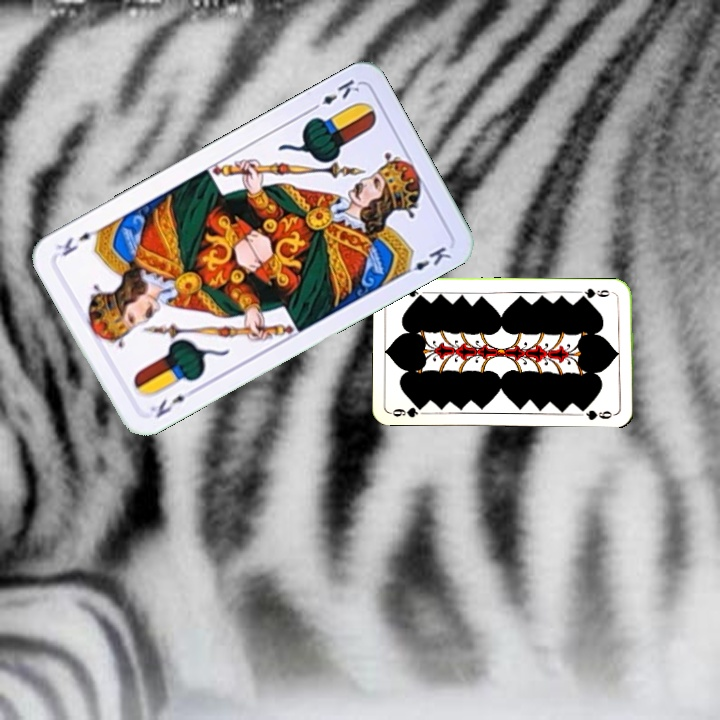EK: (306, 75, 362, 114), (146, 384, 199, 421)
G9: (387, 401, 428, 420), (576, 284, 612, 301)
